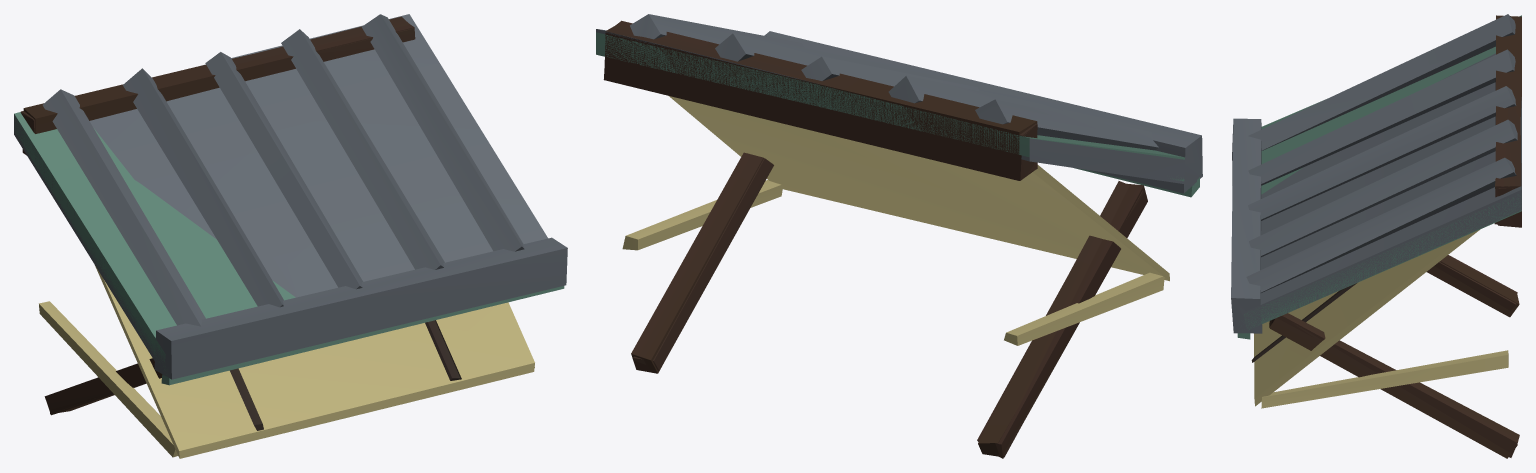
The model's file is awning.glb.
3 views of the same model, side by side, from view 1: azimuth 30°, elevation 25°; view 2: azimuth 150°, elevation 25°; view 3: azimuth 270°, elevation 25° (orthographic). The views are drawn at different scales.
Parts seen in each view (by area): view 1: awning.v0.mesh, awning.v2.mesh, awning.v1.mesh; view 2: awning.v0.mesh, awning.v2.mesh, awning.v1.mesh; view 3: awning.v0.mesh, awning.v1.mesh, awning.v2.mesh.
Boxes of the visible parts, box(x1,y1,x2,y2) form: awning.v0.mesh: box(14, 14, 567, 415); awning.v2.mesh: box(20, 112, 534, 458); awning.v1.mesh: box(14, 24, 564, 414); awning.v0.mesh: box(596, 14, 1202, 458); awning.v2.mesh: box(603, 68, 1169, 345); awning.v1.mesh: box(596, 20, 1199, 457); awning.v0.mesh: box(1231, 14, 1521, 457); awning.v1.mesh: box(1237, 15, 1521, 458); awning.v2.mesh: box(1251, 188, 1521, 408).
Size of the model in its own units: 1 by 0.7908 by 0.694.
